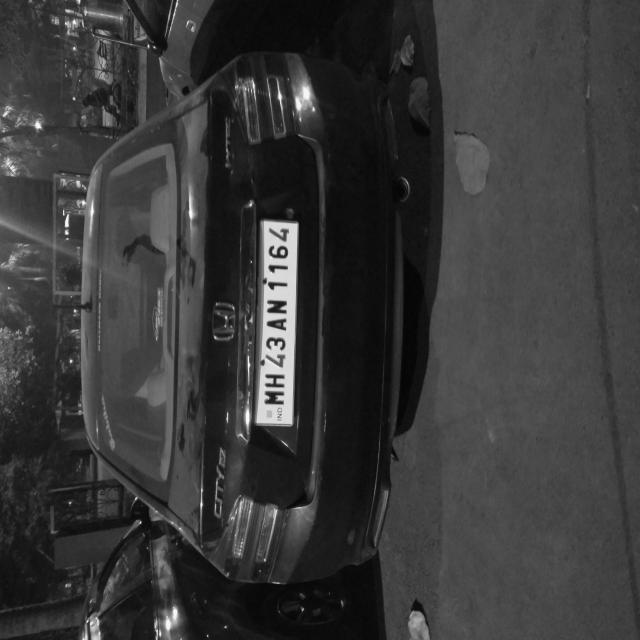car: (34, 90, 451, 556)
license-plate: (157, 334, 321, 396)
